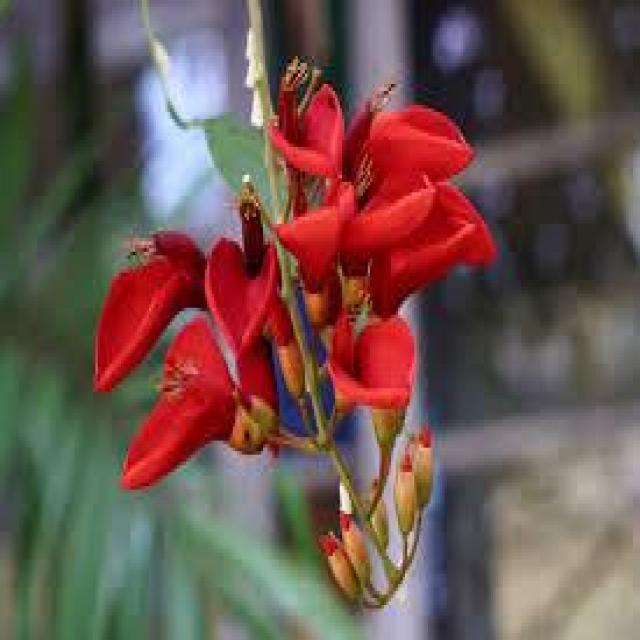organic waste: (72, 54, 470, 600)
